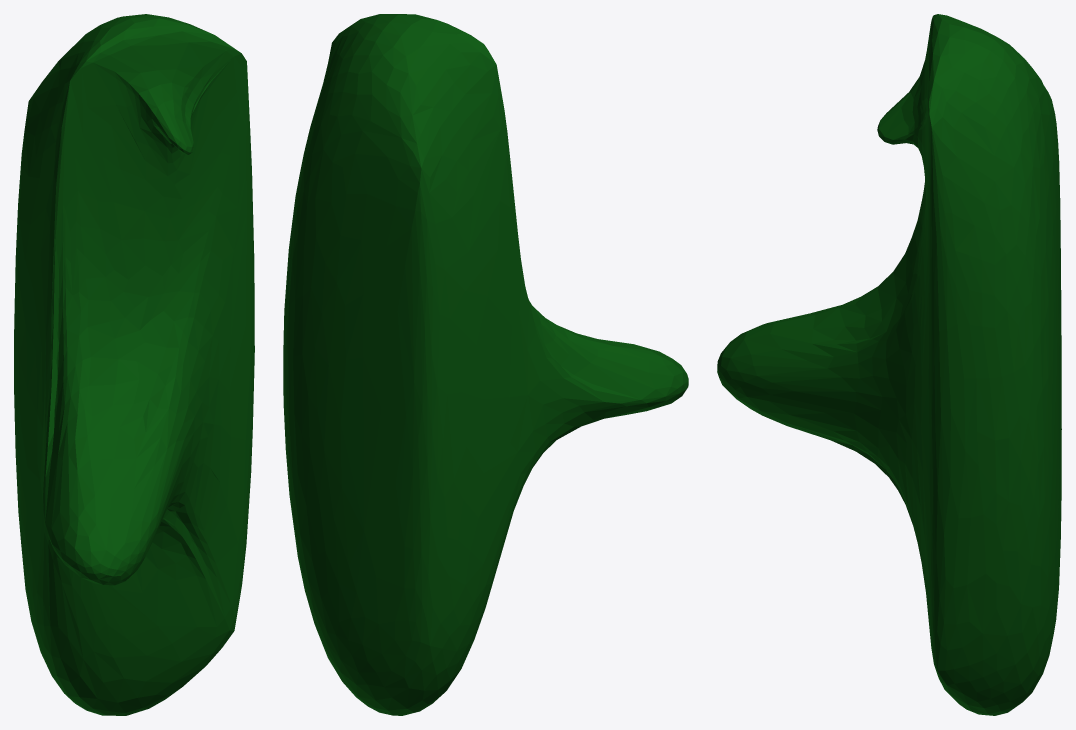
3 views of the same model, side by side, from view 1: azimuth 30°, elevation 25°; view 2: azimuth 150°, elevation 25°; view 3: azimuth 270°, elevation 25° (orthographic). The views are drawn at different scales.
Parts seen in each view (by area): view 1: 173_Cube.718; view 2: 173_Cube.718; view 3: 173_Cube.718.
Boxes of the visible parts, bbox=[...] form: 173_Cube.718: bbox=[14, 14, 254, 715]; 173_Cube.718: bbox=[283, 14, 688, 715]; 173_Cube.718: bbox=[717, 14, 1061, 715].
Bounding box in the file's own units: 4.88 × 11.35 × 5.2.
